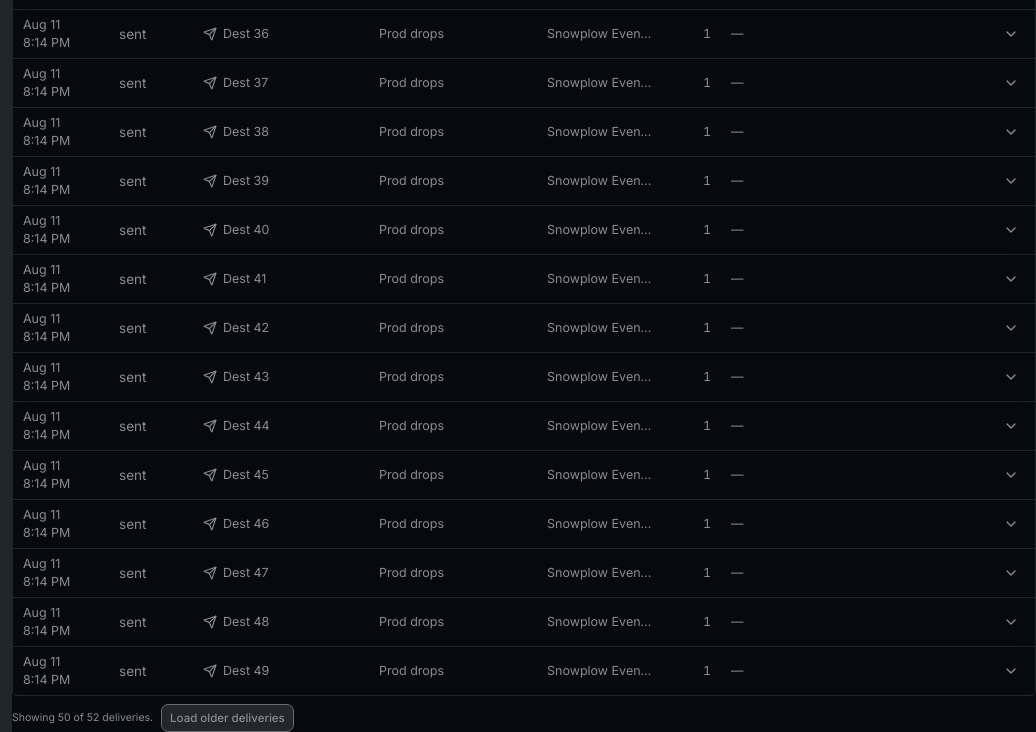
IncidentDeliveries — more than one page › says how many it is showing, and loads the rest on request
(page scrolled)
Expected: the text "Showing 50 of 52 deliveries." is shown, [12,710,153,724]
Click the button "Load older deliveries": (227, 718) [161,704,294,731]
(page scrolled)
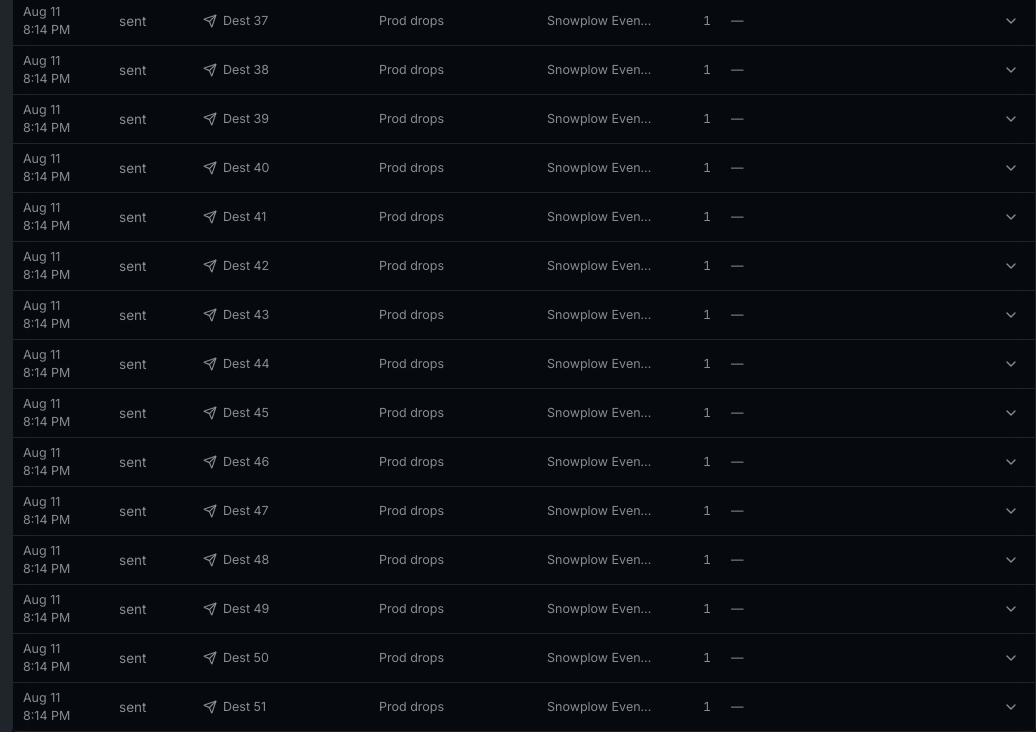
Expected: the text "Dest 51" is shown, [223,698,266,716]
Expected: the text "Showing 50 of 52 deliveries." is gone
Expected: the button "Load older deliveries" is gone
